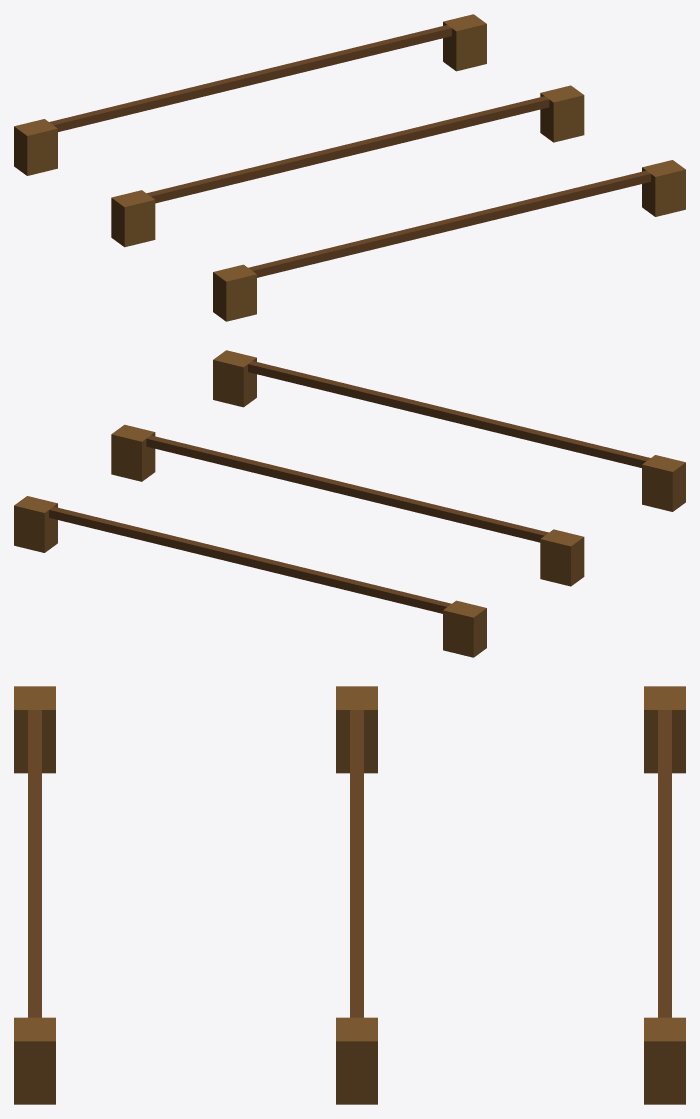
File: upg_skiff_oar_bank.glb
3 renders of one model, top to bottom at view 1: azimuth 30°, elevation 25°; view 2: azimuth 150°, elevation 25°; view 3: azimuth 270°, elevation 25°, orthographic. The views are drawn at different scales.
Parts seen in each view (by area): view 1: upg_skiff_oar_bank; view 2: upg_skiff_oar_bank; view 3: upg_skiff_oar_bank.
Boxes of the visible parts, box(x1,y1,x2,y2) form: upg_skiff_oar_bank: box(14, 14, 685, 321); upg_skiff_oar_bank: box(14, 350, 685, 657); upg_skiff_oar_bank: box(14, 686, 685, 1104).
Bounding box in the file's own units: 4.8 × 0.4 × 3.84.
